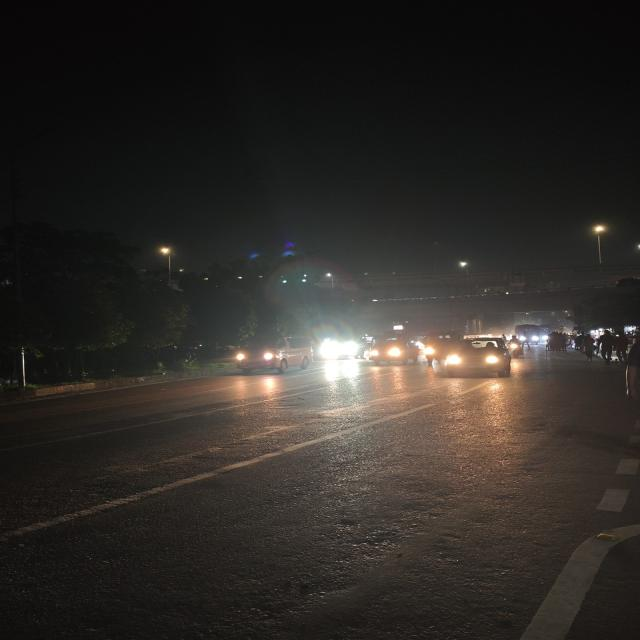bus: (514, 322, 545, 346)
car: (438, 335, 518, 381), (230, 337, 316, 375)
pedestrian: (619, 330, 640, 428), (600, 327, 621, 366), (579, 332, 599, 363), (546, 330, 568, 357), (565, 332, 579, 354)
pickup_van: (372, 329, 415, 367)
